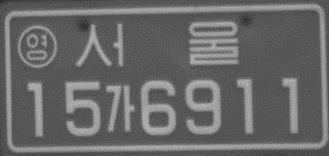1: (278, 74, 303, 136), (23, 80, 49, 139), (232, 76, 258, 135)
5: (62, 78, 103, 138)
6: (139, 78, 178, 136)
9: (184, 78, 223, 137)
가: (102, 82, 138, 134)
서울_D: (72, 18, 241, 69)
영: (17, 22, 59, 69)
